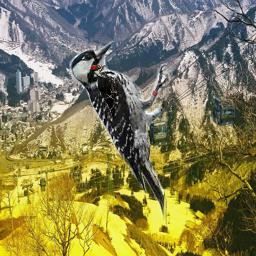Woodpecker: (68, 41, 172, 226), (90, 63, 119, 125)
